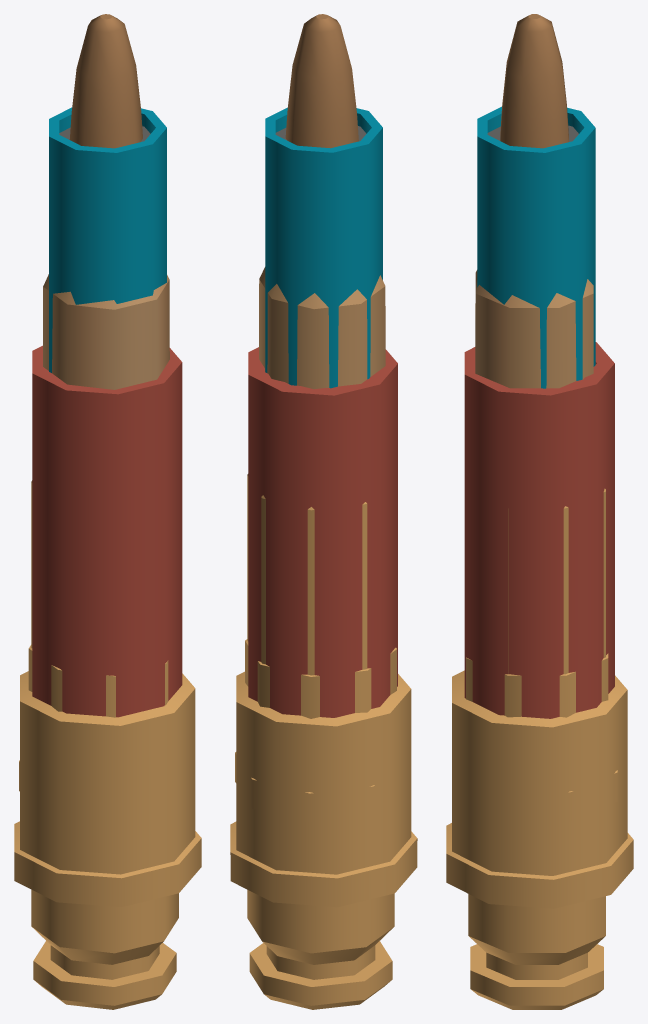
Rendered from weapons_pack_bullets_gltf.glb.
The picture shows the model from 3 angles, left to right: view 1: azimuth 30°, elevation 25°; view 2: azimuth 150°, elevation 25°; view 3: azimuth 270°, elevation 25°; orthographic projection.
Parts seen in each view (by area): view 1: SM_Bullet_09, SM_Bullet_08, SM_Bullet_02, SM_Bullet_01, SM_Bullet_010; view 2: SM_Bullet_09, SM_Bullet_08, SM_Bullet_01, SM_Bullet_02, SM_Bullet_010; view 3: SM_Bullet_09, SM_Bullet_08, SM_Bullet_02, SM_Bullet_01, SM_Bullet_010.
Part boxes in pixels (x1,y1,x2,y2): SM_Bullet_09: (14, 345, 201, 907); SM_Bullet_08: (49, 107, 166, 372); SM_Bullet_02: (43, 14, 169, 389); SM_Bullet_01: (31, 480, 178, 1009); SM_Bullet_010: (19, 645, 168, 791); SM_Bullet_09: (230, 347, 417, 907); SM_Bullet_08: (265, 107, 382, 388); SM_Bullet_01: (247, 474, 394, 1009); SM_Bullet_02: (259, 14, 385, 389); SM_Bullet_010: (235, 639, 396, 822); SM_Bullet_09: (446, 342, 633, 908); SM_Bullet_08: (477, 106, 595, 388); SM_Bullet_02: (475, 14, 593, 388); SM_Bullet_01: (468, 488, 605, 1009); SM_Bullet_010: (466, 653, 617, 821).
Bounding box in the file's own units: 0.3101 × 1.74 × 0.3054.
Materials: 1 (1 with a texture image).
